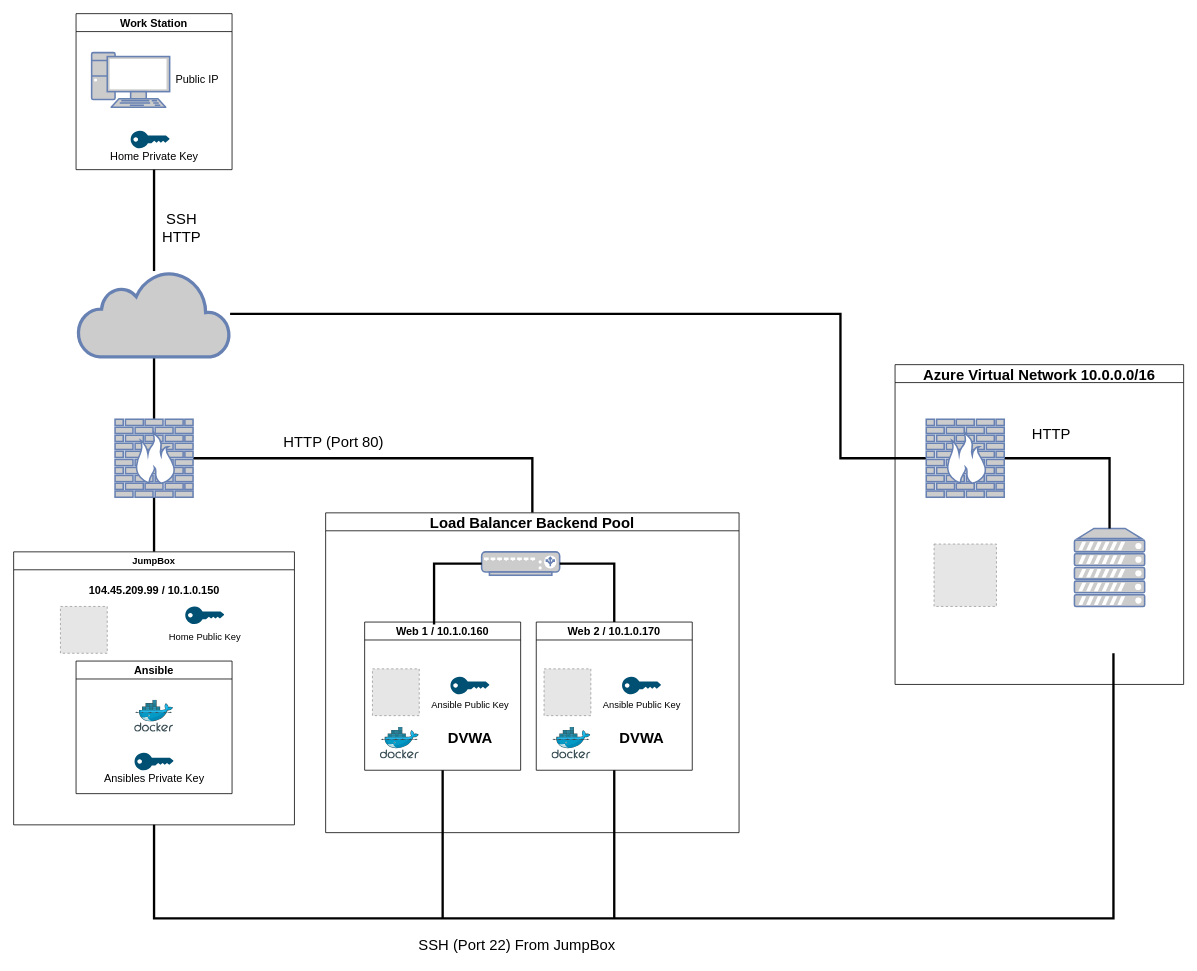
The diagram is 1197 pixels wide and 971 high, and some of its shapes have lost their labels. Grey dashed boxes stand in for pictures. Here are the shapes that lost their labels. From the top down, the centre of each, then its label:
At (153,313): "Internet".
At (153,458): "Azure Firewall".
At (965,458): "Security Group".
At (520,563): "Load Balancer 104.45.214.219".
At (1109,567): "ELK Server 10.0.0.4".
